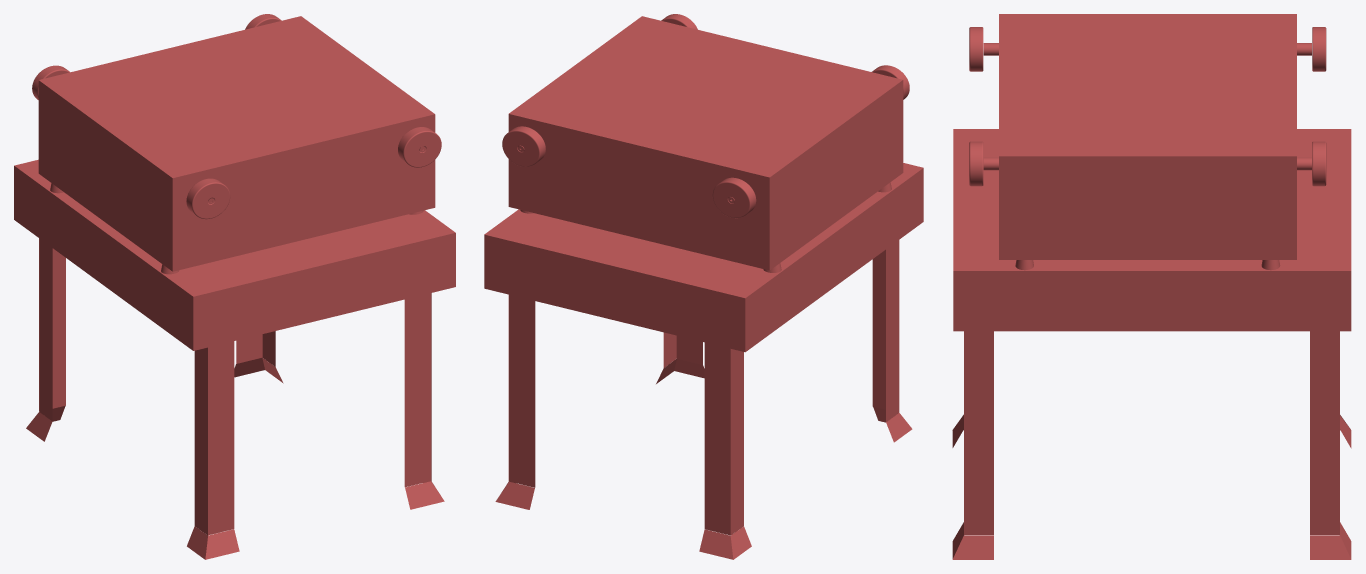
File: machine.gltf
3 views of the same model, side by side, from view 1: azimuth 30°, elevation 25°; view 2: azimuth 150°, elevation 25°; view 3: azimuth 270°, elevation 25° (orthographic). The views are drawn at different scales.
Visible parts, largest first — view 1: Box1739, Box1740, Box1831, Box1839, Box1840, Box1844, Box1843, 98AB7B134DDB347F6AF62C82F826C06F82B69A62|:|D6B527F24CAACB019, 98AB7B134DDB347F6AF62C82F826C06F82B69A62|:|B8EB60F140935C680, Box1842, Box1834, Box1835; view 2: Box1739, Box1740, Box1843, Box1835, Box1844, Box1840, Box1839, 98AB7B134DDB347F6AF62C82F826C06F82B69A62|:|671208831A5DD3A37, 98AB7B134DDB347F6AF62C82F826C06F82B69A62|:|BFF118BEE05708D7F, Box1846, Box1838, Box1831; view 3: Box1739, Box1740, Box1832, Box1836, Box1833, Box1837, 98AB7B134DDB347F6AF62C82F826C06F82B69A62|:|D6B527F24CAACB019, 98AB7B134DDB347F6AF62C82F826C06F82B69A62|:|671208831A5DD3A37, 98AB7B134DDB347F6AF62C82F826C06F82B69A62|:|B8EB60F140935C680, 98AB7B134DDB347F6AF62C82F826C06F82B69A62|:|BFF118BEE05708D7F.
Boxes of the visible parts, x1,y1,x2,y2 form: Box1739: [38, 16, 435, 271]; Box1740: [14, 159, 455, 350]; Box1831: [404, 293, 431, 487]; Box1839: [208, 341, 234, 535]; Box1840: [194, 347, 207, 535]; Box1844: [39, 238, 52, 421]; Box1843: [39, 238, 65, 411]; 98AB7B134DDB347F6AF62C82F826C06F82B69A62|:|D6B527F24CAACB019: [398, 127, 441, 167]; 98AB7B134DDB347F6AF62C82F826C06F82B69A62|:|B8EB60F140935C680: [186, 178, 230, 219]; Box1842: [205, 529, 239, 559]; Box1834: [405, 481, 444, 509]; Box1835: [236, 334, 262, 363]; Box1739: [508, 16, 903, 270]; Box1740: [484, 163, 923, 352]; Box1843: [704, 342, 730, 535]; Box1835: [509, 294, 535, 487]; Box1844: [730, 349, 743, 535]; Box1840: [886, 240, 899, 421]; Box1839: [872, 249, 885, 409]; 98AB7B134DDB347F6AF62C82F826C06F82B69A62|:|671208831A5DD3A37: [502, 126, 545, 166]; 98AB7B134DDB347F6AF62C82F826C06F82B69A62|:|BFF118BEE05708D7F: [712, 177, 756, 218]; Box1846: [699, 529, 733, 559]; Box1838: [495, 481, 534, 509]; Box1831: [676, 335, 702, 364]; Box1739: [999, 14, 1296, 259]; Box1740: [953, 129, 1351, 331]; Box1832: [964, 331, 993, 534]; Box1836: [1310, 331, 1339, 534]; Box1833: [952, 535, 993, 559]; Box1837: [1310, 535, 1351, 559]; 98AB7B134DDB347F6AF62C82F826C06F82B69A62|:|D6B527F24CAACB019: [969, 141, 983, 186]; 98AB7B134DDB347F6AF62C82F826C06F82B69A62|:|671208831A5DD3A37: [1312, 141, 1326, 186]; 98AB7B134DDB347F6AF62C82F826C06F82B69A62|:|B8EB60F140935C680: [969, 27, 983, 71]; 98AB7B134DDB347F6AF62C82F826C06F82B69A62|:|BFF118BEE05708D7F: [1312, 27, 1326, 71].
Size of the model in its own units: 485 by 652 by 575.
Materials: 1 (1 with a texture image).
